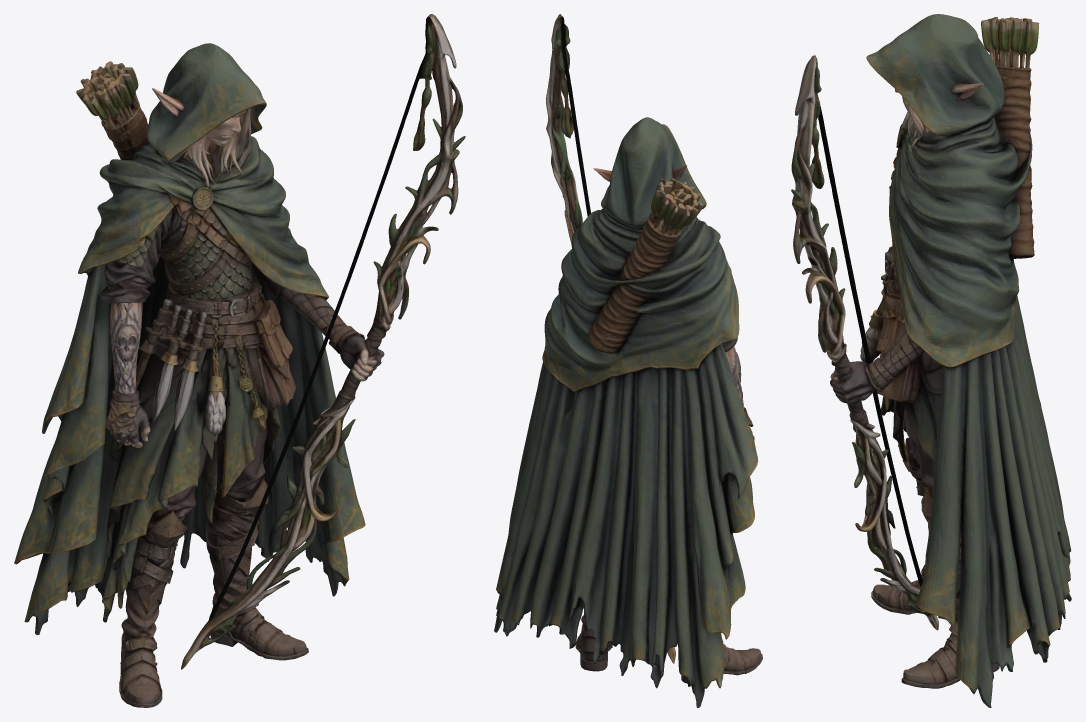
File: aiprintgen_Elven Ranger with Hood and Bow-preview.glb
The picture shows the model from 3 angles, left to right: view 1: azimuth 30°, elevation 25°; view 2: azimuth 150°, elevation 25°; view 3: azimuth 270°, elevation 25°; orthographic projection. The views are drawn at different scales.
Parts seen in each view (by area): view 1: aiprintgen_0; view 2: aiprintgen_0; view 3: aiprintgen_0.
Boxes of the visible parts, <box> form: aiprintgen_0: <box>14,14,465,707</box>; aiprintgen_0: <box>494,14,762,707</box>; aiprintgen_0: <box>791,14,1071,707</box>.
Size of the model in its own units: 0.5226 by 1 by 0.3776.
Materials: 1 (1 with a texture image).
